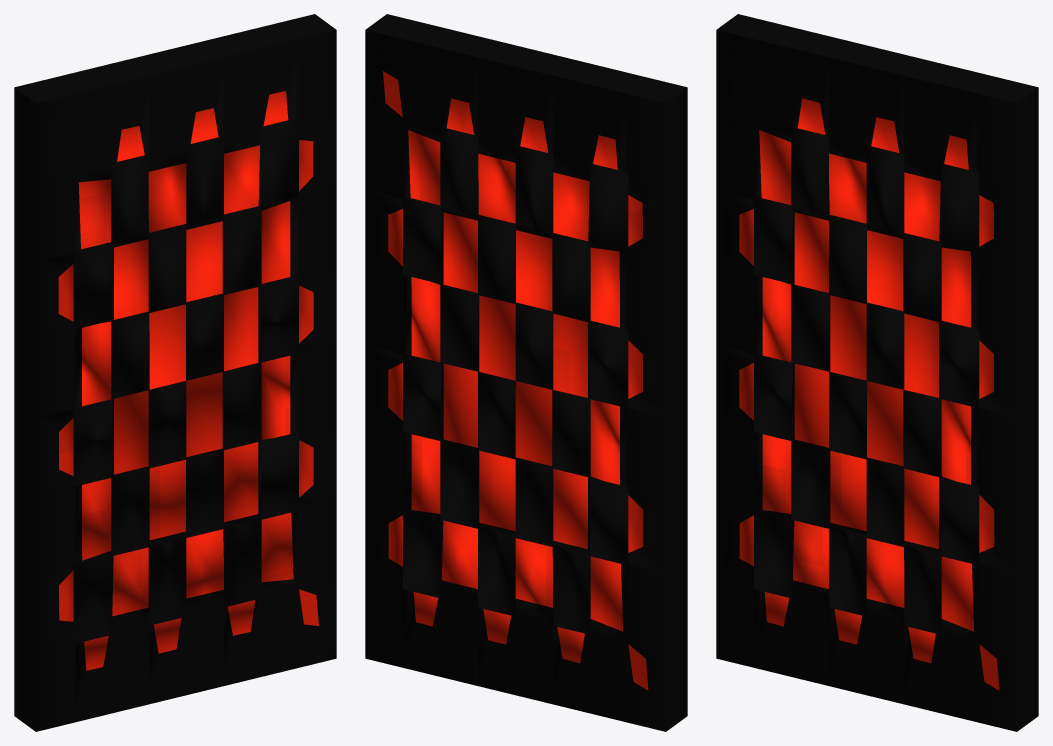
The model's file is portau.obj.
3 renders of one model, left to right at view 1: azimuth 30°, elevation 25°; view 2: azimuth 150°, elevation 25°; view 3: azimuth 330°, elevation 25°, orthographic.
Parts seen in each view (by area): view 1: Cylinder_Cylinder_door; view 2: Cylinder_Cylinder_door; view 3: Cylinder_Cylinder_door.
Part boxes in pixels (x1,y1,x2,y2): Cylinder_Cylinder_door: (14, 14, 336, 731); Cylinder_Cylinder_door: (365, 14, 687, 731); Cylinder_Cylinder_door: (716, 14, 1038, 731).
Size of the model in its own units: 0.9995 by 2 by 0.1249.
